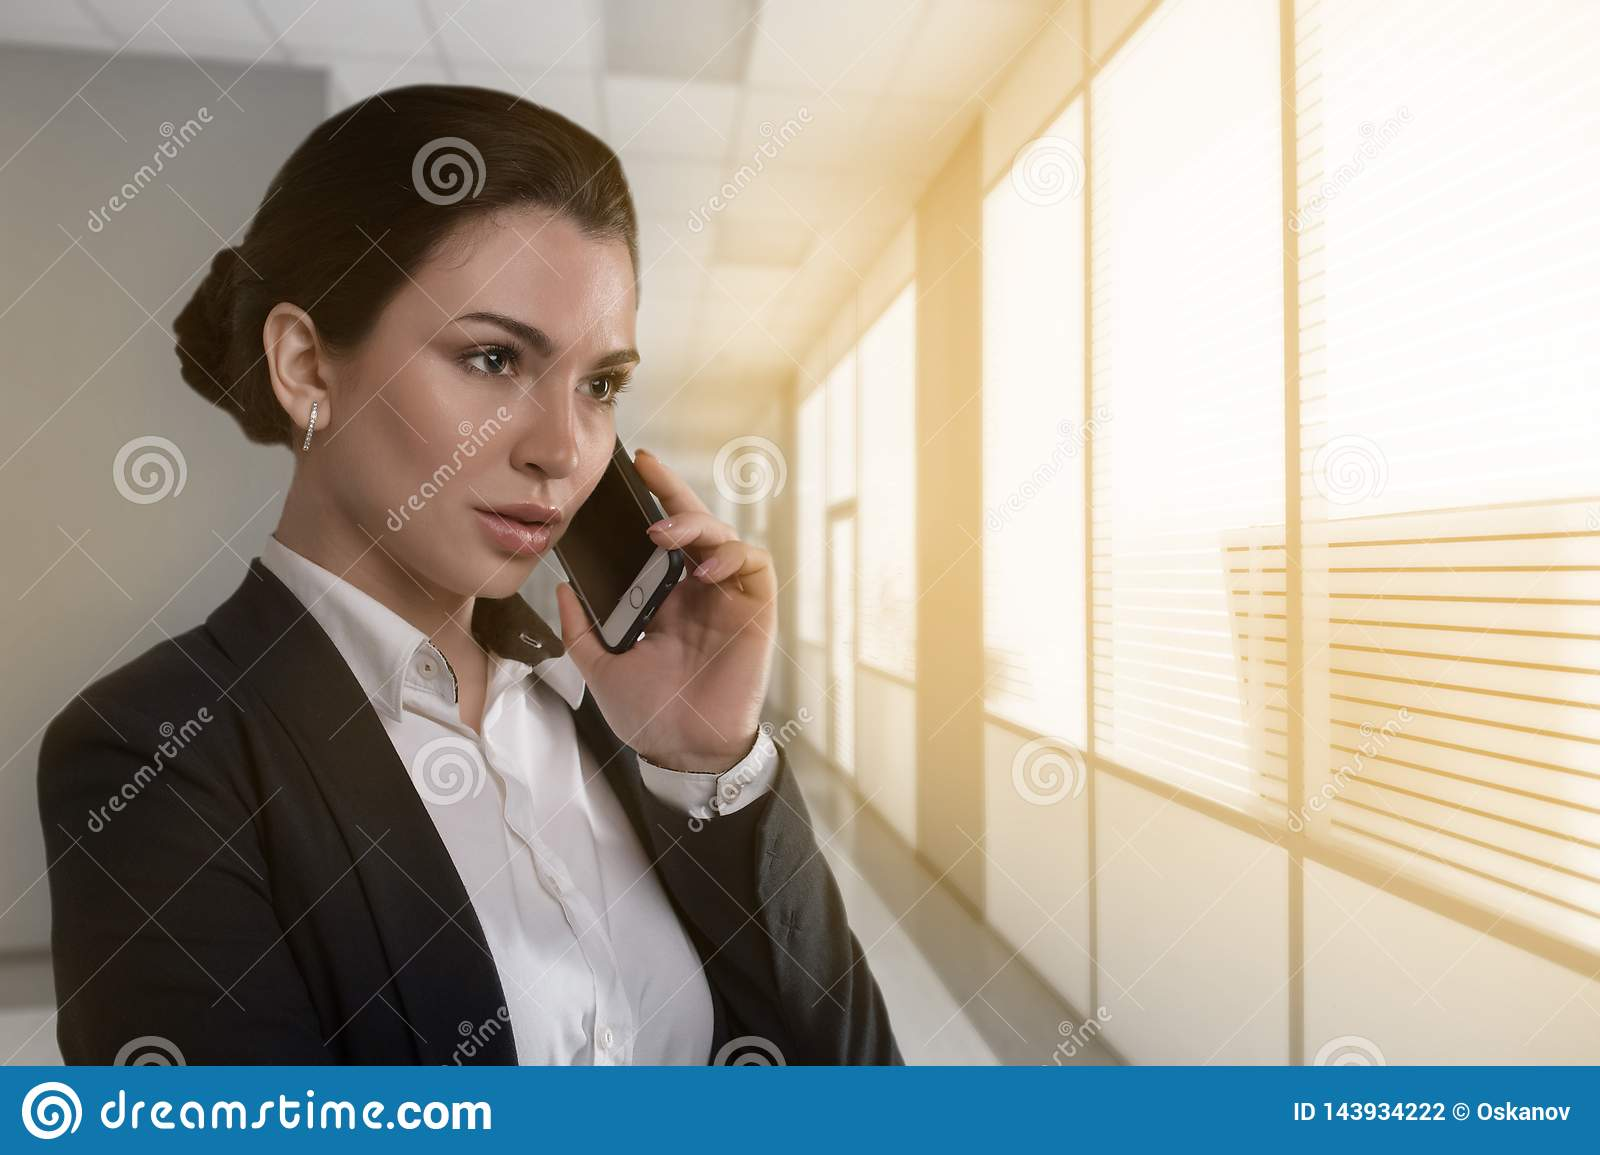phone: (554, 428, 687, 654)
talk: (420, 302, 779, 759)
